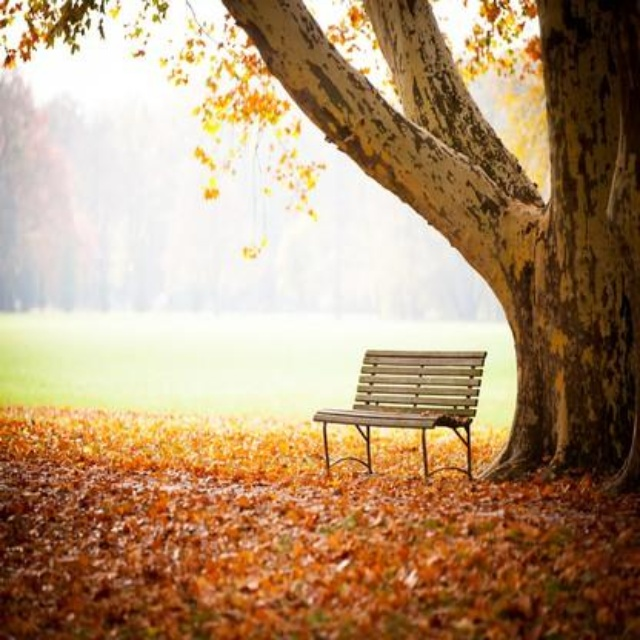obstacle: (318, 343, 492, 494)
